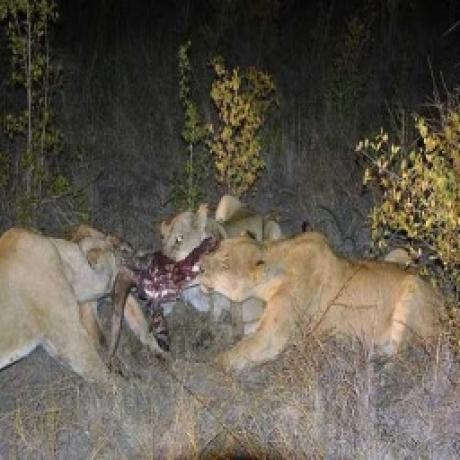Lion: (193, 228, 456, 366), (0, 221, 133, 380)
